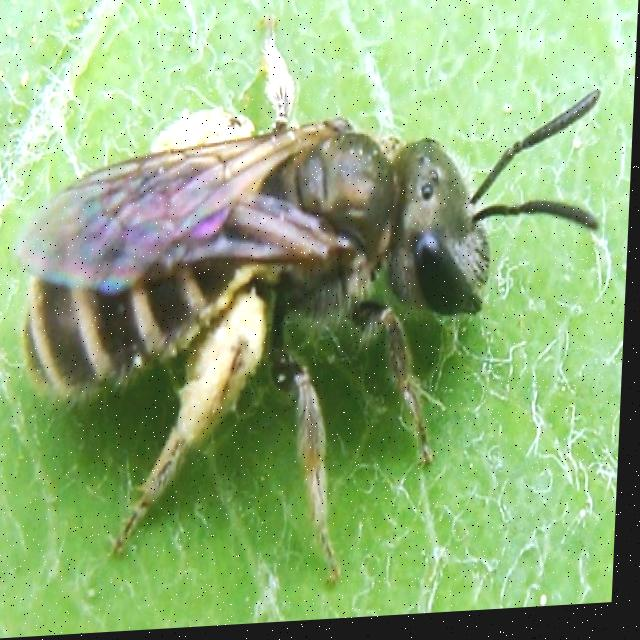Lasioglossum: (13, 0, 635, 544)
